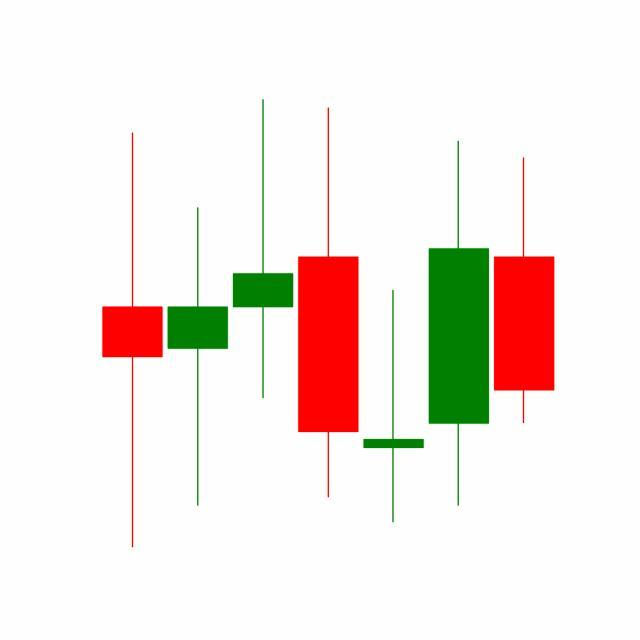Morning Doji Star: (295, 104, 492, 529)
